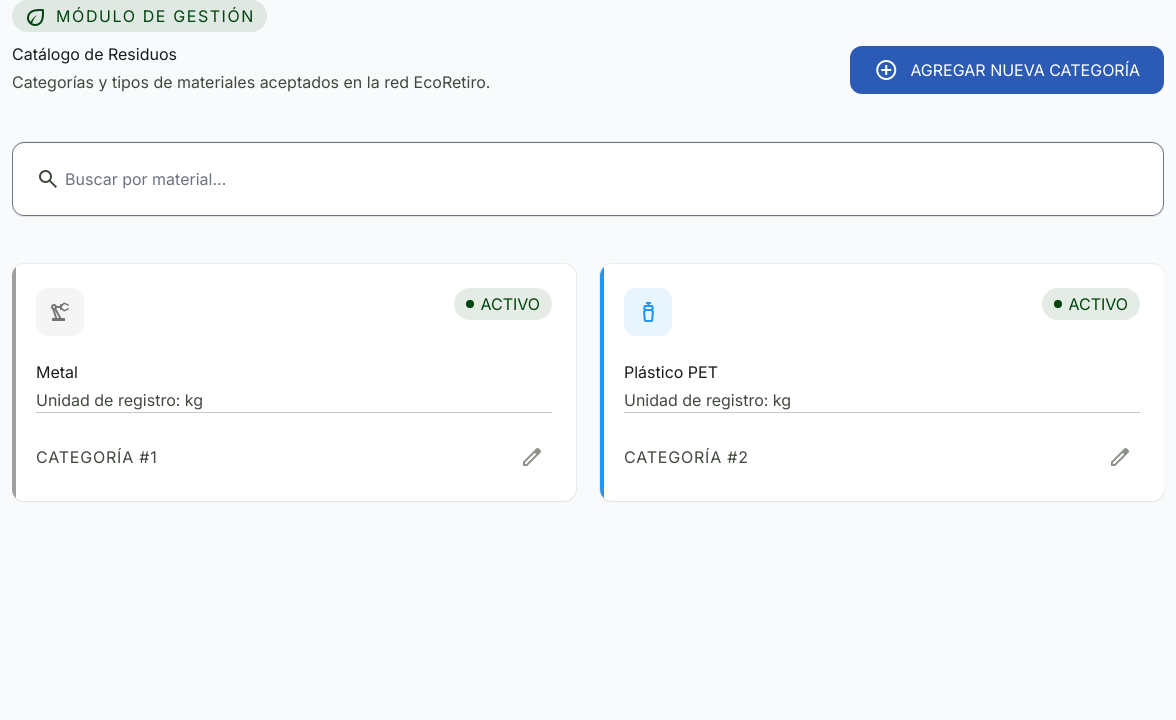
Test: AdminWasteCatalogView › muestra y filtra las categorías disponibles
Expected: the heading "Metal" is shown, [36, 362, 78, 382]
Expected: the heading "Plástico PET" is shown, [624, 362, 718, 382]
Type "metal" into the search field at (588, 179), box [12, 142, 1164, 216]
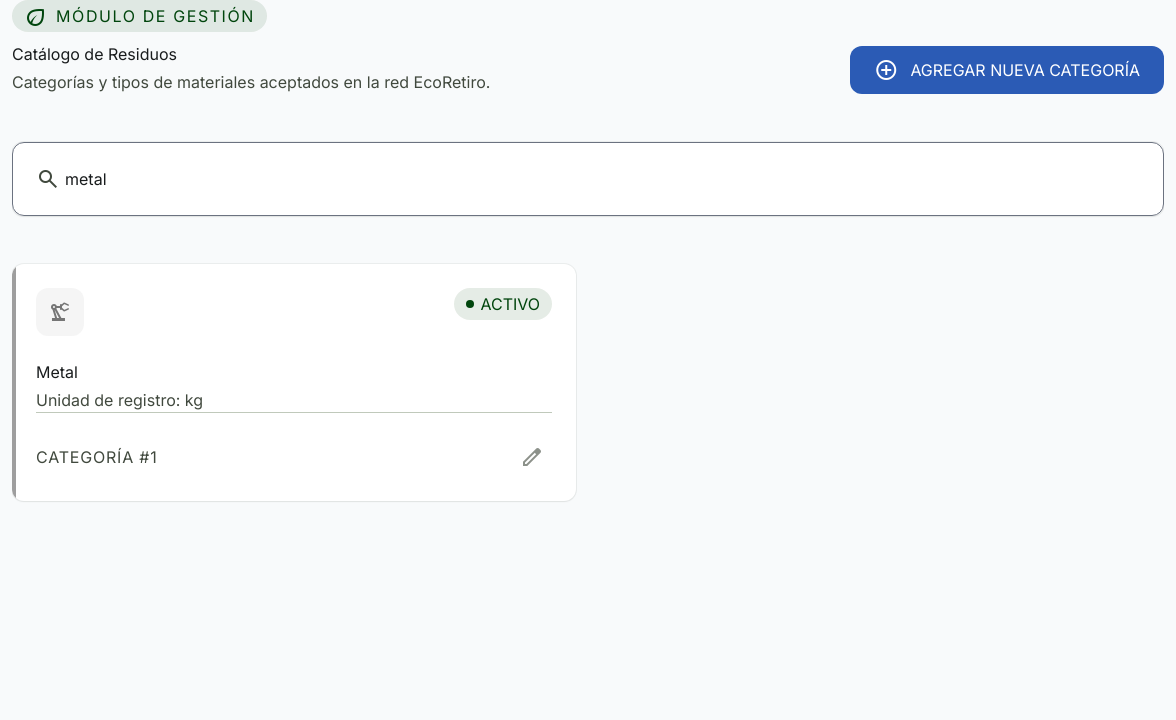
Expected: the heading "Metal" is shown, [36, 362, 78, 382]
Expected: the heading "Plástico PET" is gone
